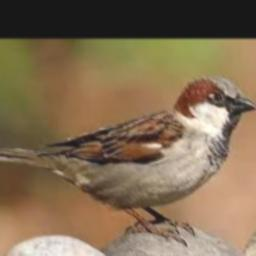Sparrow: (0, 76, 256, 245)
